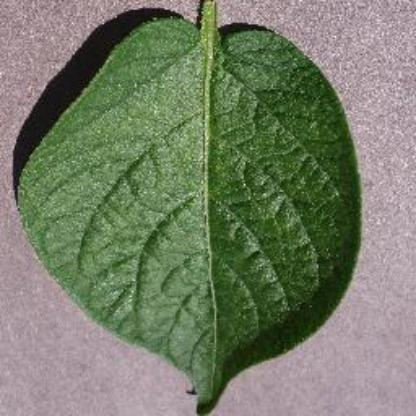Healthy-plant: (19, 20, 395, 396)
